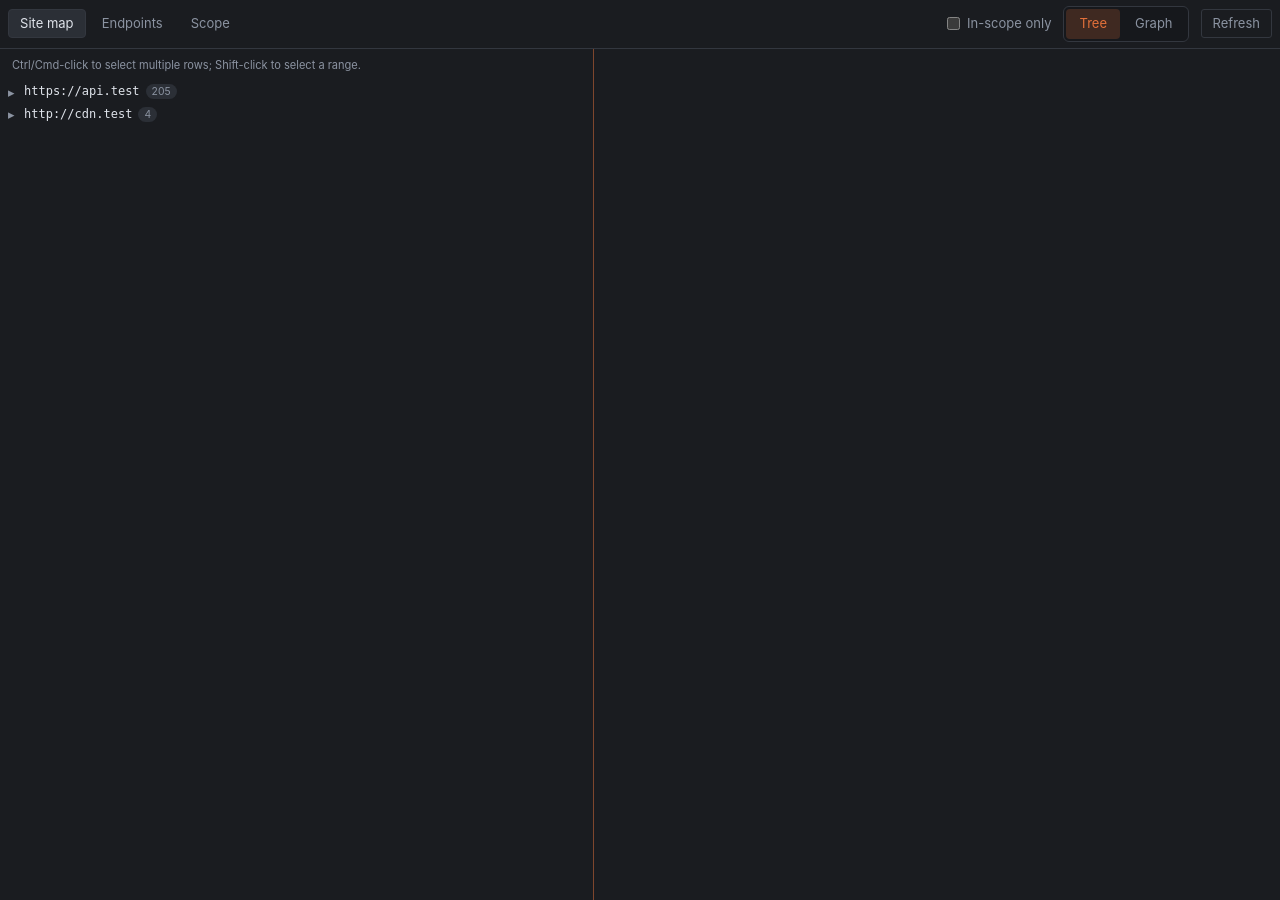
Test: TargetTab › loads only one bounded page when a site opens, then loads more on demand
Click the element with class "tree-row" showing "▸ https://api.test 205".
click(92, 92)  # box [8,84,177,100]
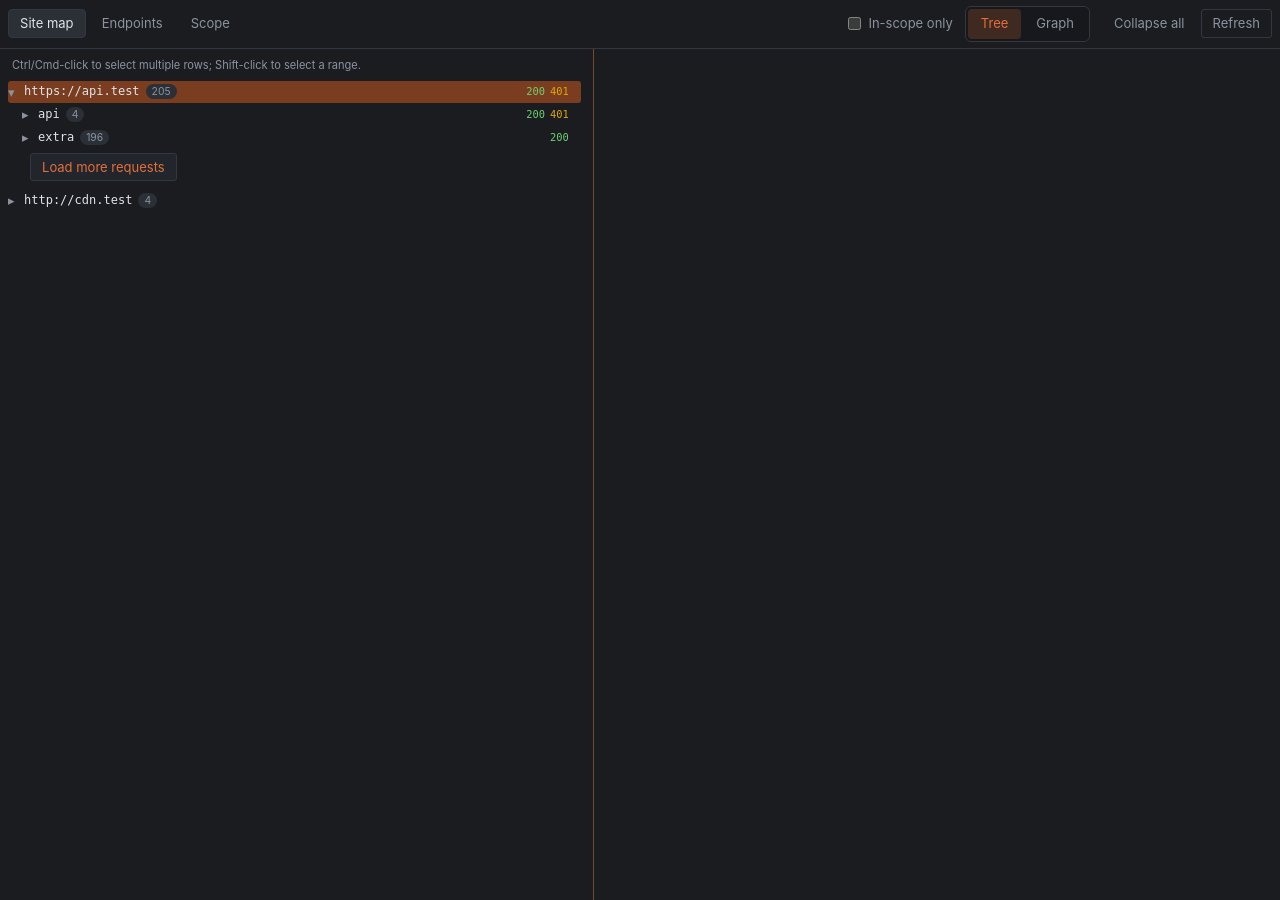
Check: the button "Load more requests" is shown
Click the button "Load more requests".
click(103, 167)  # box [30,153,177,181]
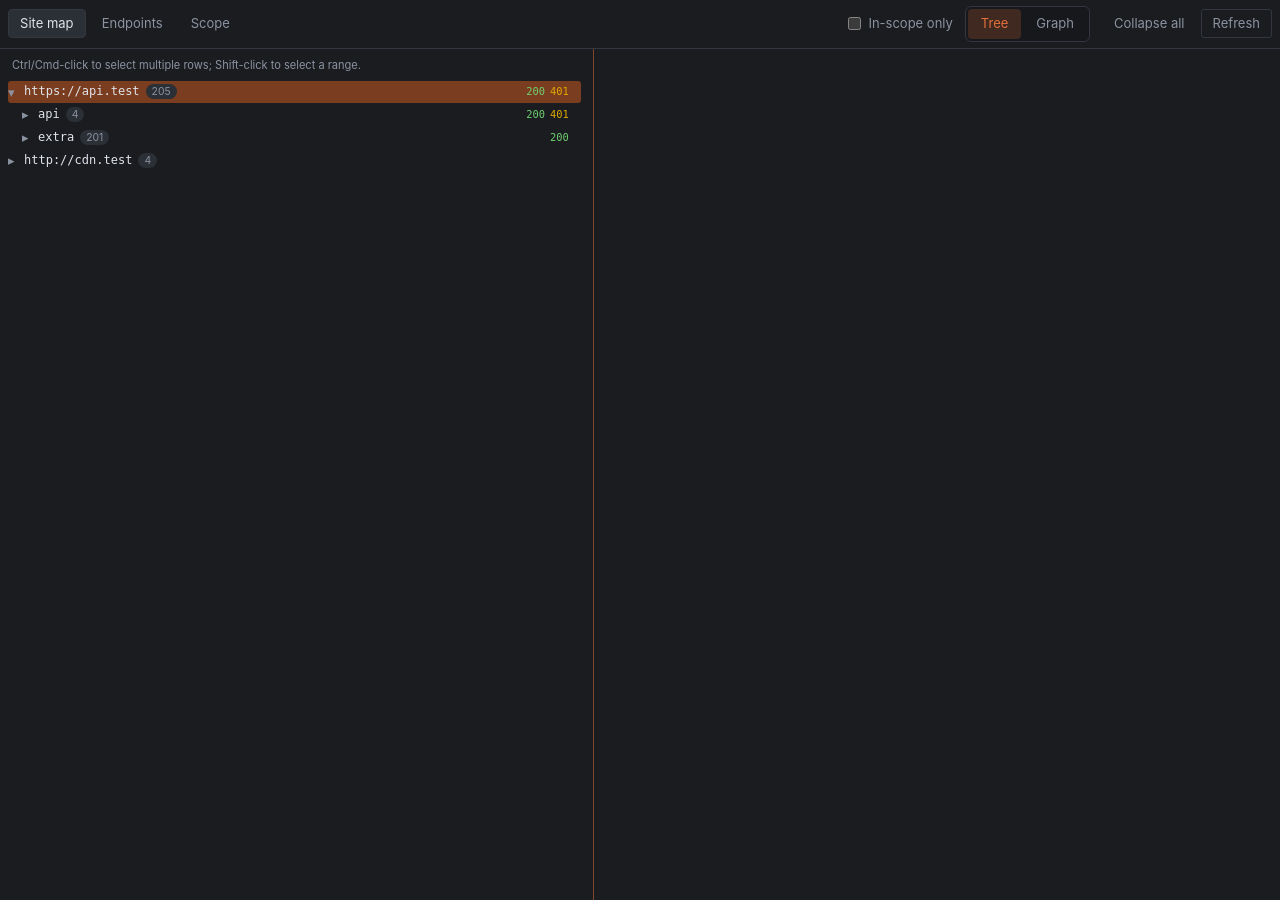
Check: the button "Load more requests" is gone
